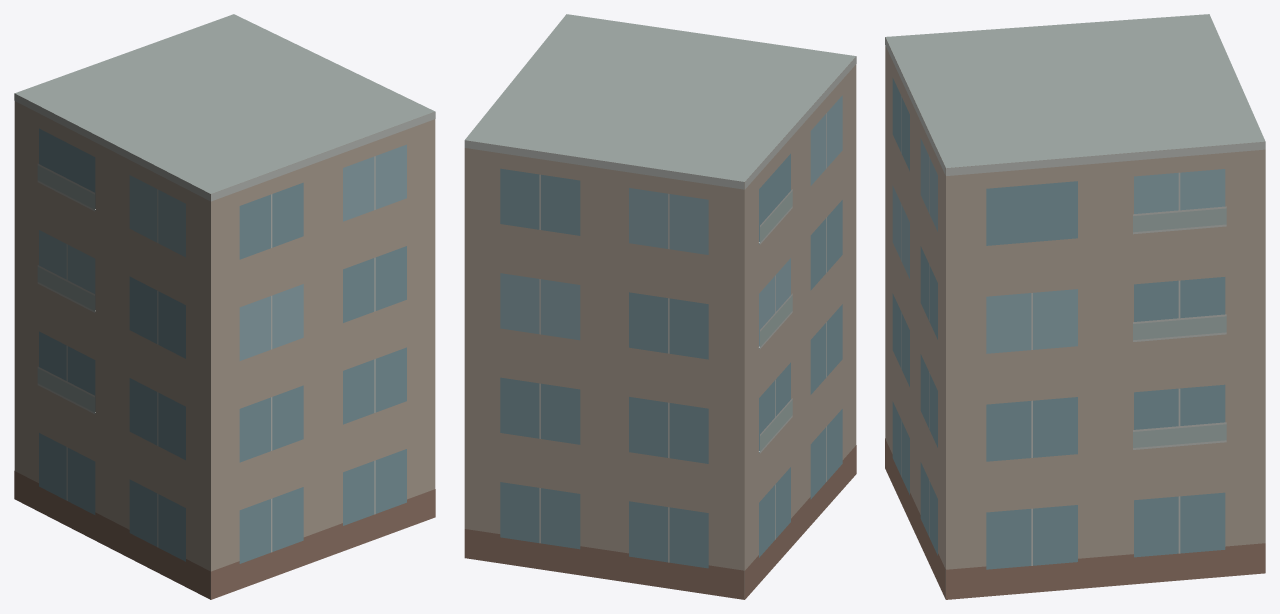
Rendered from survey-upis-32461599.glb.
3 views of the same model, side by side, from view 1: azimuth 30°, elevation 25°; view 2: azimuth 150°, elevation 25°; view 3: azimuth 270°, elevation 25° (orthographic). The views are drawn at different scales.
Parts seen in each view (by area): view 1: survey-upis-32461599.tmp; view 2: survey-upis-32461599.tmp; view 3: survey-upis-32461599.tmp.
Part boxes in pixels (x1,y1,x2,y2): survey-upis-32461599.tmp: (14,14,435,599); survey-upis-32461599.tmp: (464,14,856,599); survey-upis-32461599.tmp: (885,14,1265,599).
Size of the model in its own units: 10.12 by 13.2 by 10.55.
